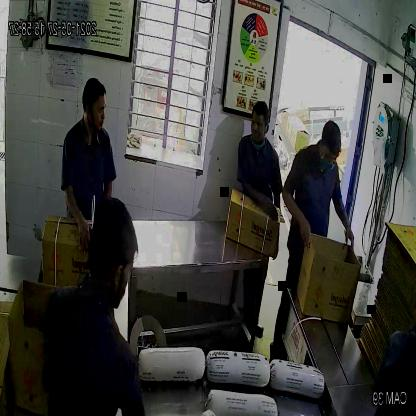no_goggles: (247, 118, 270, 133)
